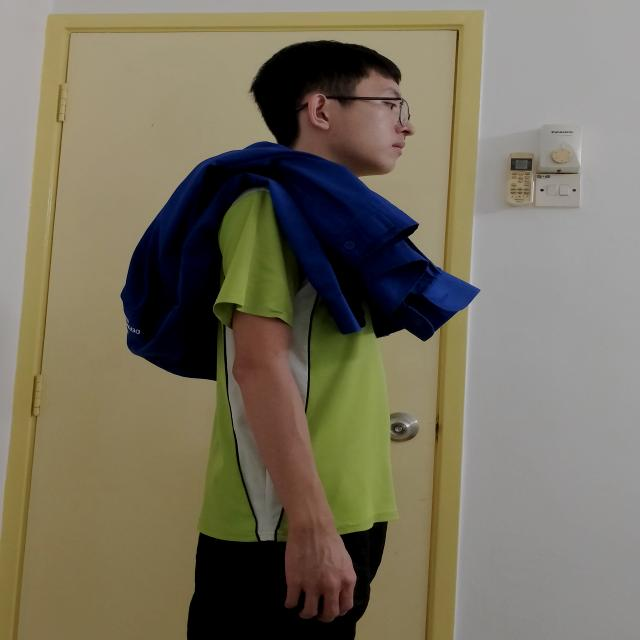person_without_labcoat: (121, 41, 479, 640)
